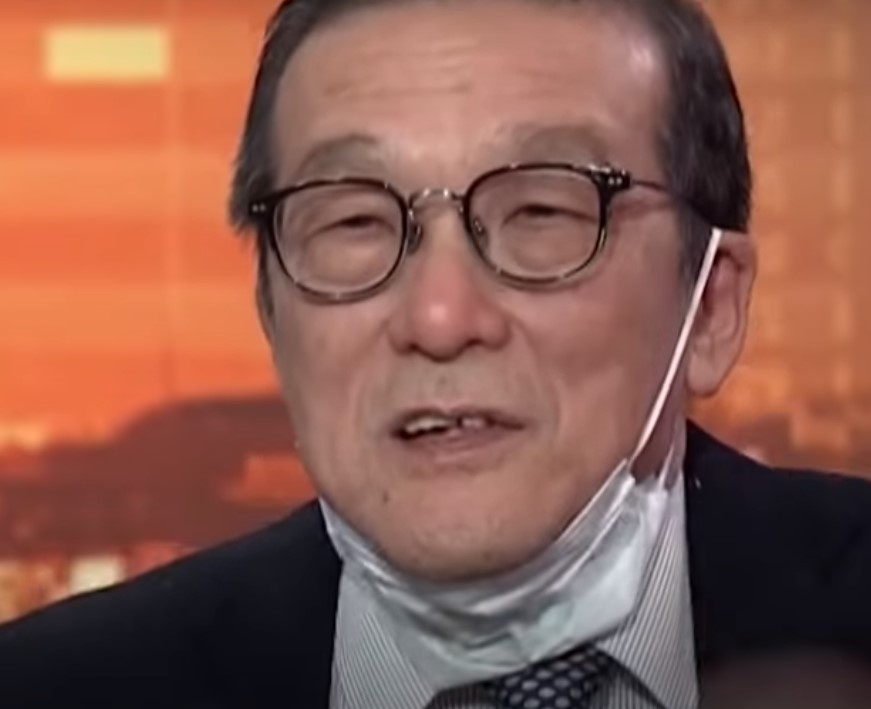face_with_mask: (232, 6, 766, 695)
